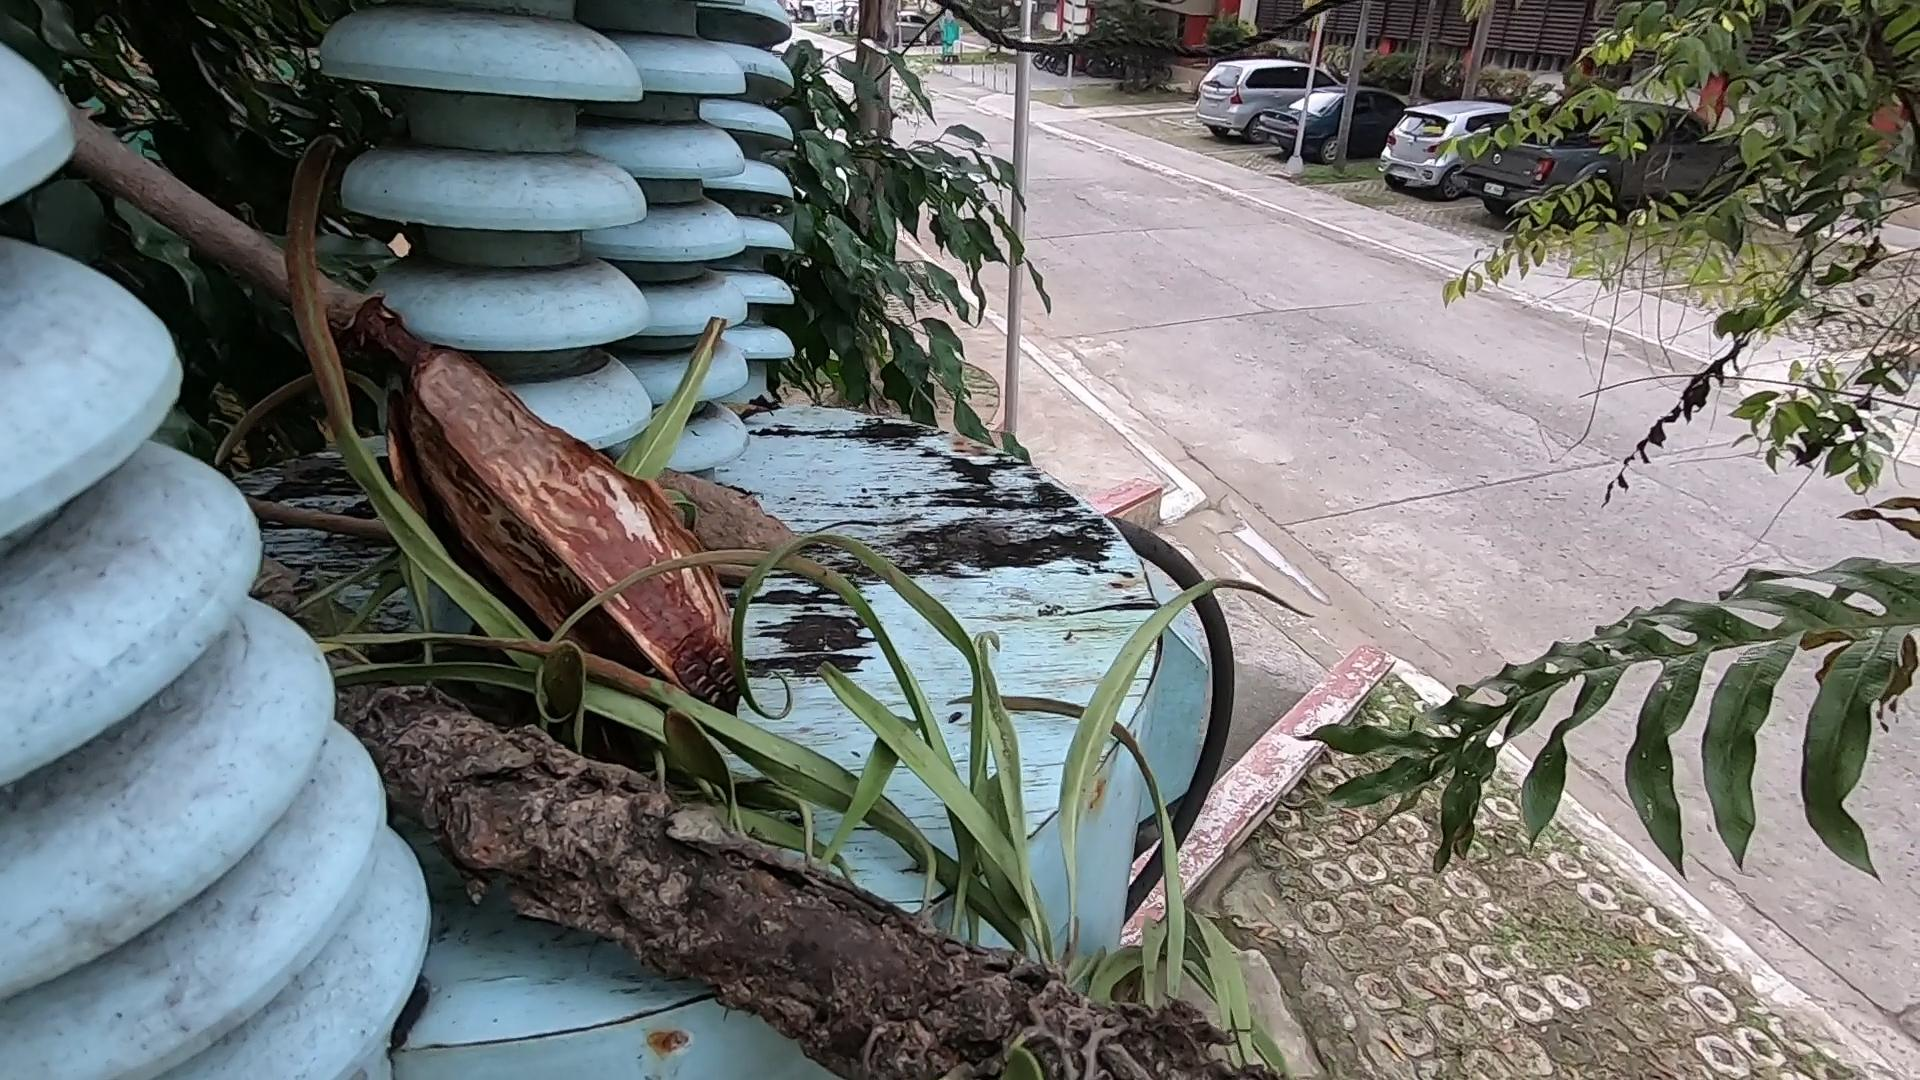branch with leaves: (363, 661, 1095, 1080)
leaf: (717, 376, 787, 451)
mahogany fruit: (232, 295, 1033, 771)
tree branch: (83, 78, 371, 611)
